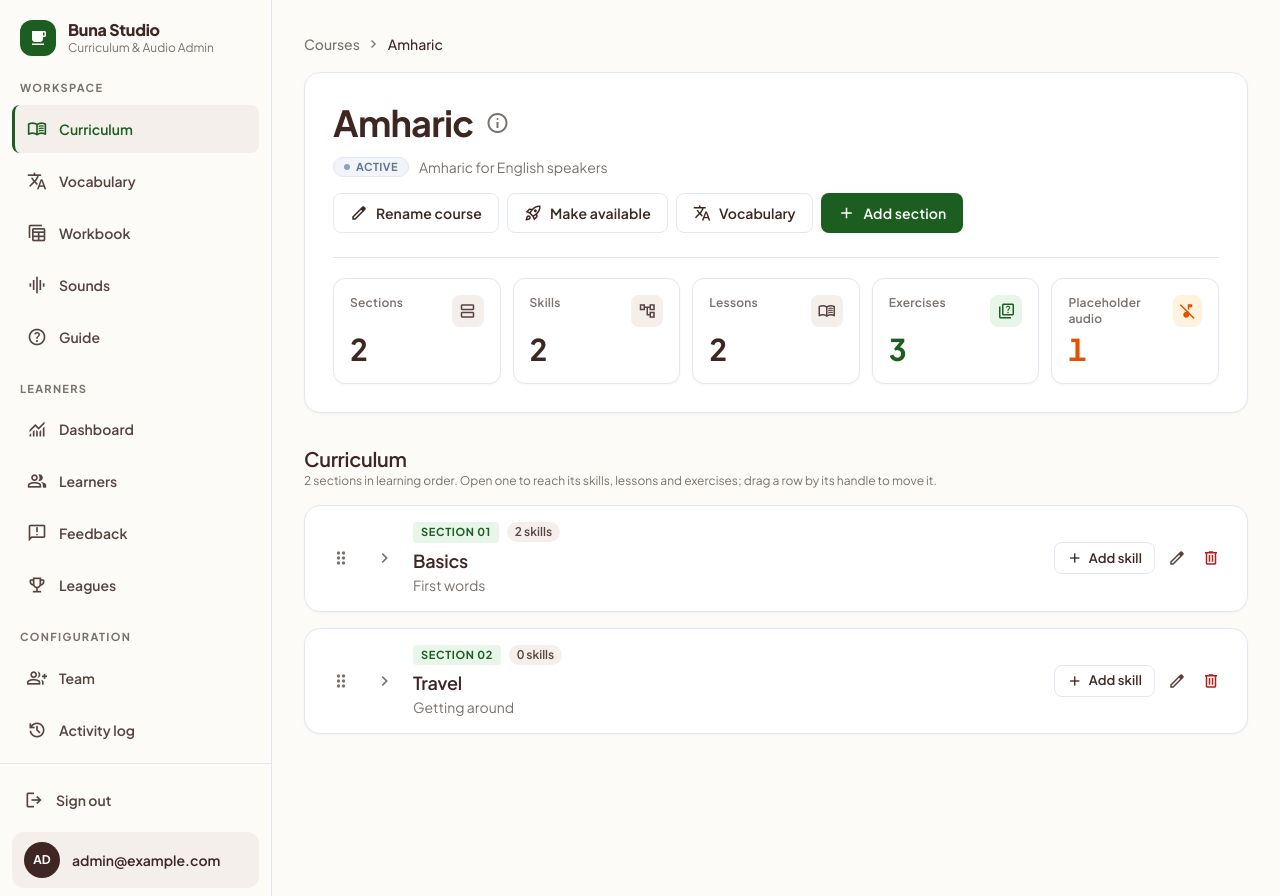
it: the tree › reaches skills, lessons and exercises, marking placeholder and local audio
Check: the heading "Amharic" is shown, box [333,101,474,145]
Step 1. Click the button named "Expand section Basics" → coordinates (385, 558), box [369,542,401,574]
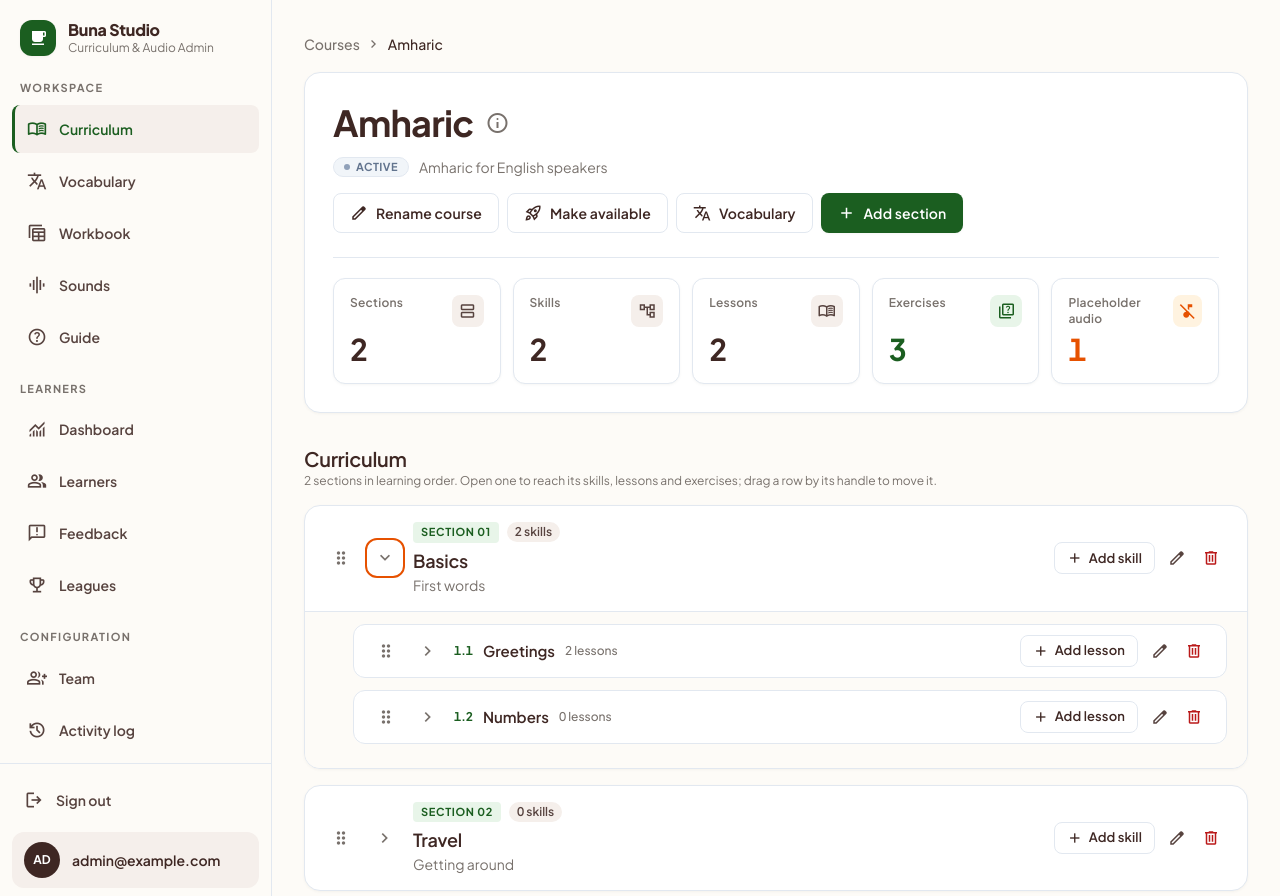
Check: the text "Greetings" is shown, box [483,638,555,662]
Check: the text "2 lessons" is shown, box [565,642,618,658]
Step 2. Click the button named "Expand skill Greetings" → coordinates (428, 650), box [412,634,444,666]
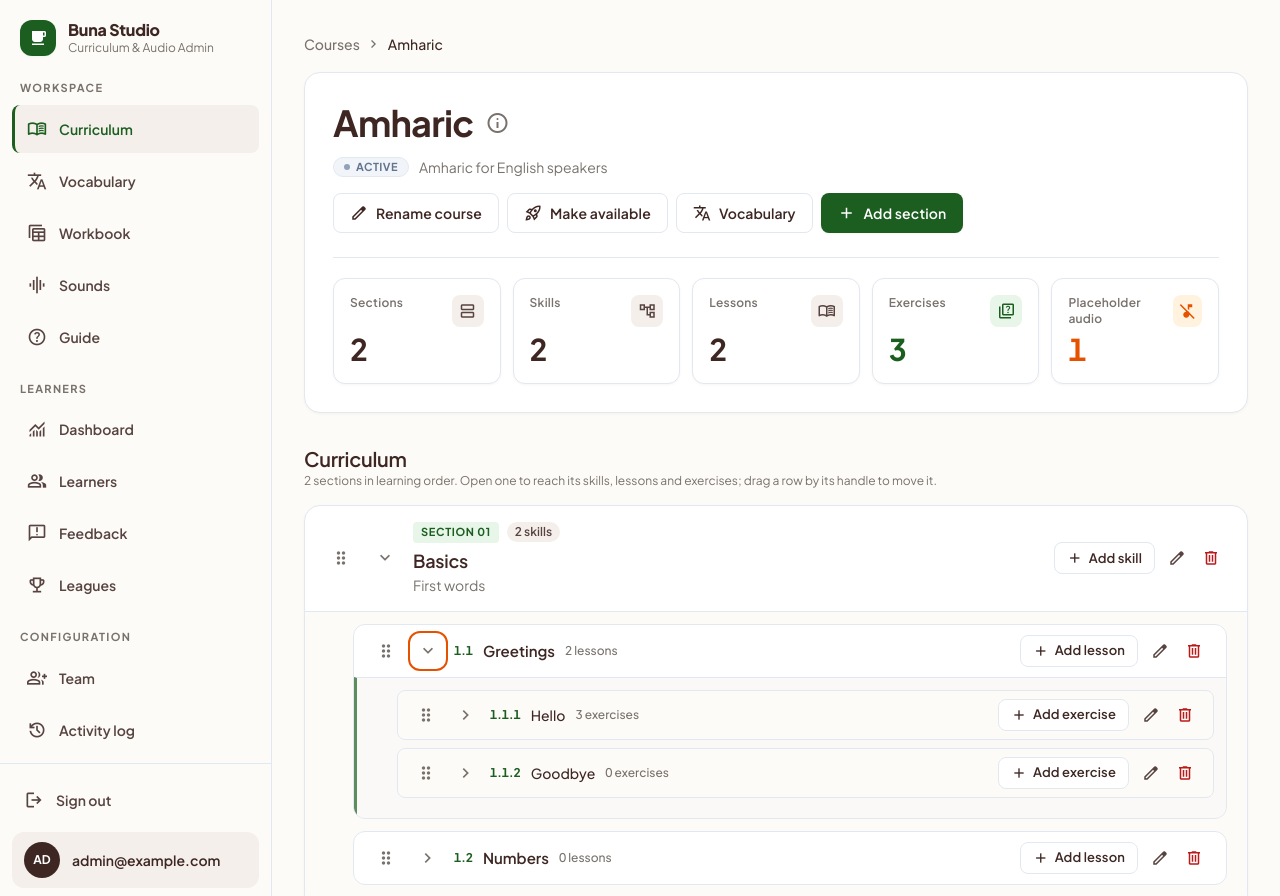
Check: the text "Hello" is shown, box [531,704,565,724]
Check: the text "3 exercises" is shown, box [575,706,639,722]
Step 3. Click the button named "Expand lesson Hello" → coordinates (466, 714), box [450,698,482,730]
(page scrolled)
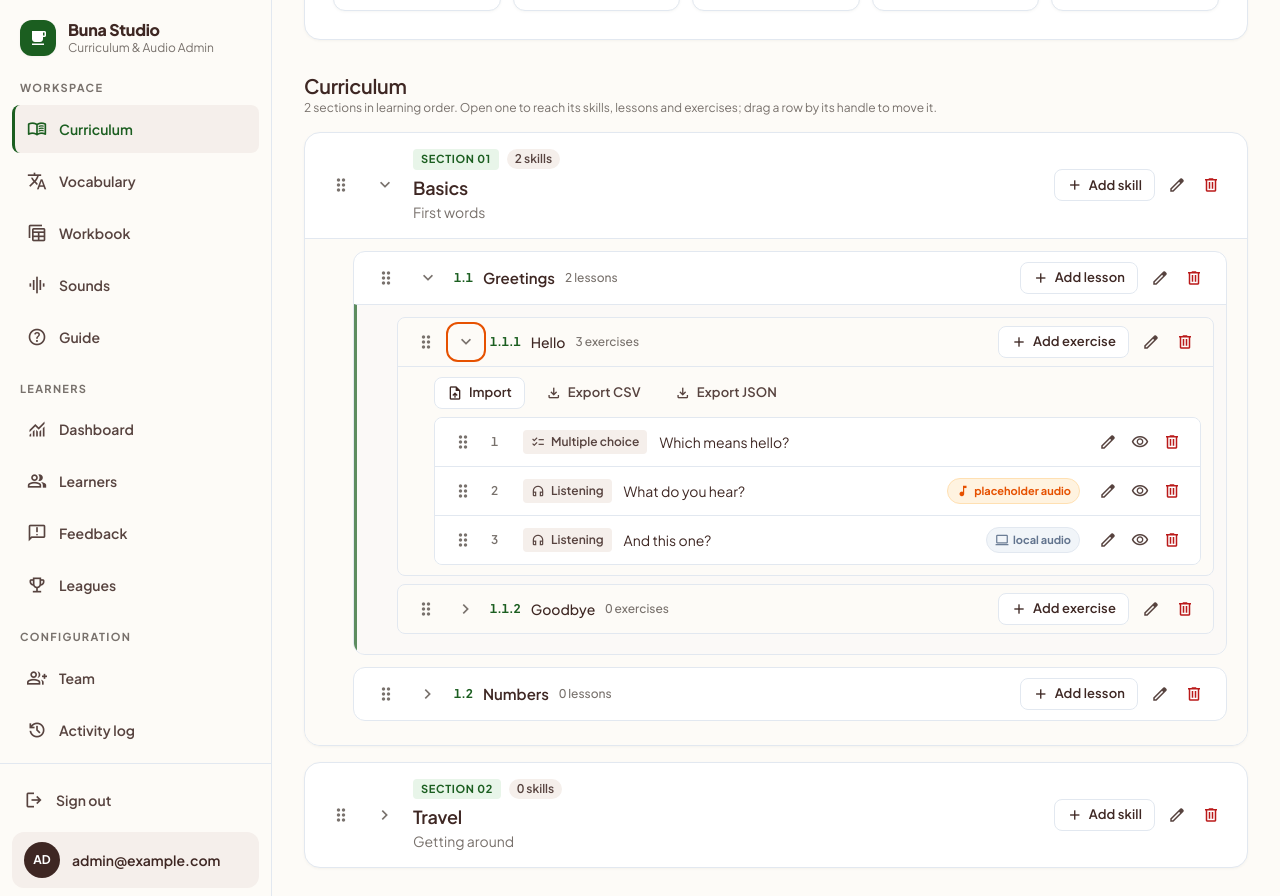
Check: the link "Which means hello?" is shown, box [659,432,789,450]
Check: the text "Listening" is shown 2 times, box [551,482,604,498]; [551,532,604,548]
Check: the text "placeholder audio" is shown, box [974,483,1071,498]
Step 4. Click the button named "Expand lesson Goodbye" → coordinates (466, 608), box [450,592,482,624]
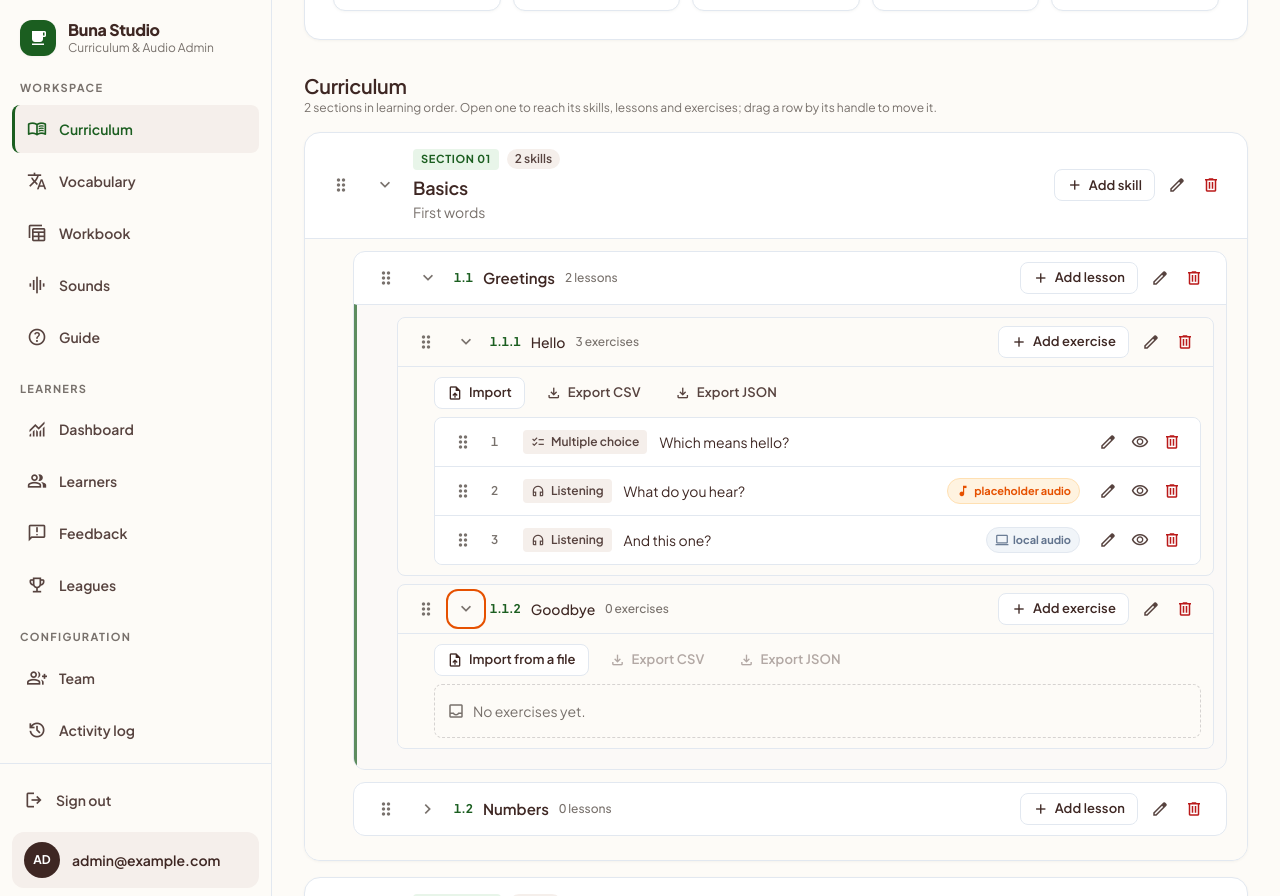
Check: the text "No exercises yet." is shown, box [434,684,1201,738]
